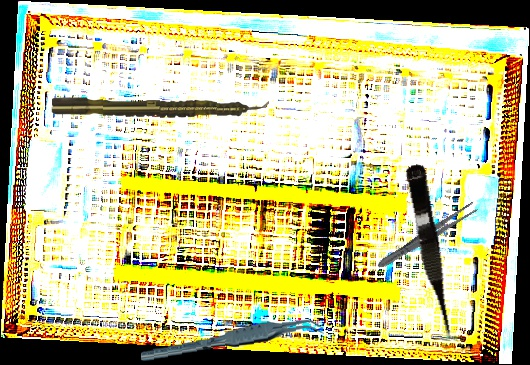Dressing Forceps: (374, 199, 480, 273)
Handpiece: (51, 95, 269, 120)
Micro Scissor: (401, 162, 459, 345)
Tissue Forceps: (139, 317, 325, 363)
